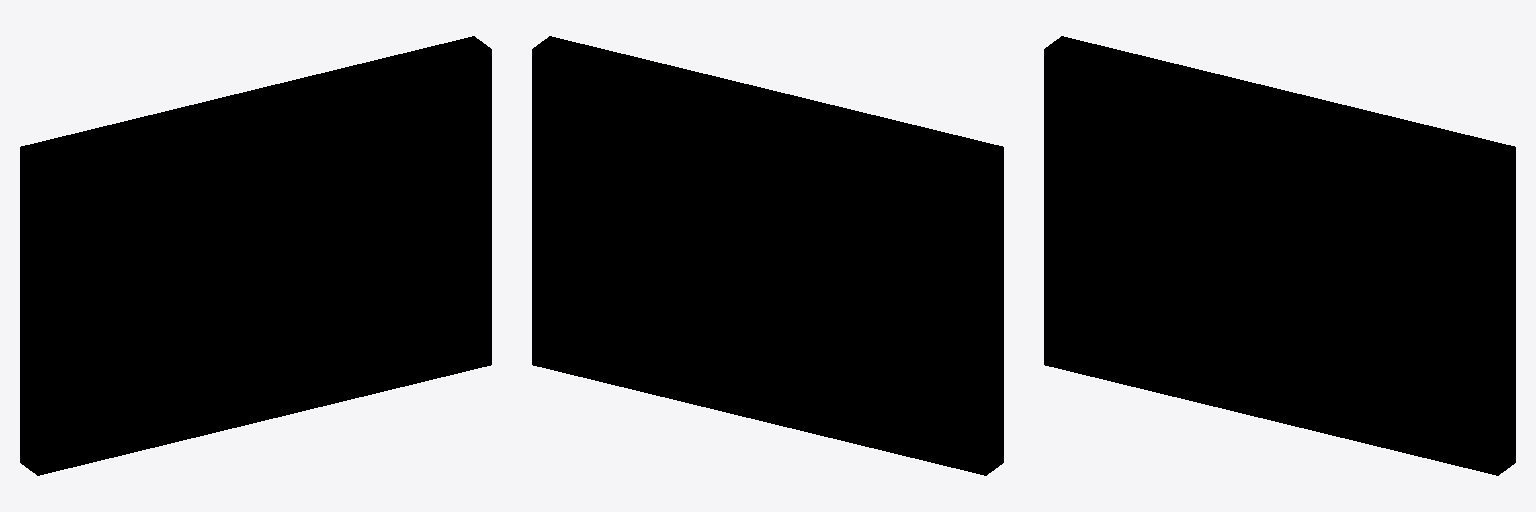
robot.urdf — wall:
<?xml version="1.0"?>
<robot name="wall">
  <material name="red">
    <color rgba="0.8 0 0 1"/>
  </material>
  <material name="green">
    <color rgba="0 0.8 0 1"/>
  </material>
  <material name="blue">
    <color rgba="0 0 0.8 1"/>
  </material>
  <material name="black">
    <color rgba="0 0 0 1"/>
  </material>
  <material name="white">
    <color rgba="1 1 1 1"/>
  </material>

  <link name="base_link">
    <visual>
      <geometry>
        <box size="1.50 0.1 1."/>
      </geometry>
      <material name="black"/>
    </visual>
    <collision>
      <geometry>
        <box size="1.50 0.2 1."/>
      </geometry>
    </collision>
    <inertial>
      <mass value="10"/>
      <inertia ixx="0.016" ixy="0.0" ixz="0.0" iyy="13.34" iyz="0.0" izz="13.34"/>
    </inertial>
  </link>
</robot>

--- Render facts (derived) ---
3 views of the same robot in one strip: view 1: azimuth 30°, elevation 25°; view 2: azimuth 150°, elevation 25°; view 3: azimuth 330°, elevation 25° (orthographic).
Model wall with 1 links and 0 joints (none), rooted at base_link, posed all joints at 0.
Visible links, largest first — view 1: base_link; view 2: base_link; view 3: base_link.
Boxes of the visible links, x1,y1,x2,y2 form: base_link: [20, 36, 491, 475]; base_link: [532, 36, 1003, 475]; base_link: [1044, 36, 1515, 475].
Bounding box of the posed robot: 1.5 × 0.1 × 1 m (x, y, z).
Geometry: primitives only (box / cylinder / sphere), no mesh files.
